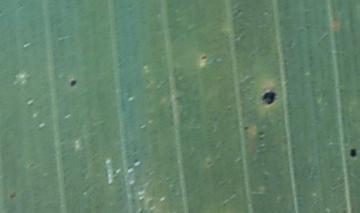tarspot: (262, 90, 277, 106), (349, 147, 358, 158), (69, 78, 77, 87), (9, 191, 17, 200), (199, 53, 207, 61), (258, 129, 265, 137), (243, 126, 250, 131)
